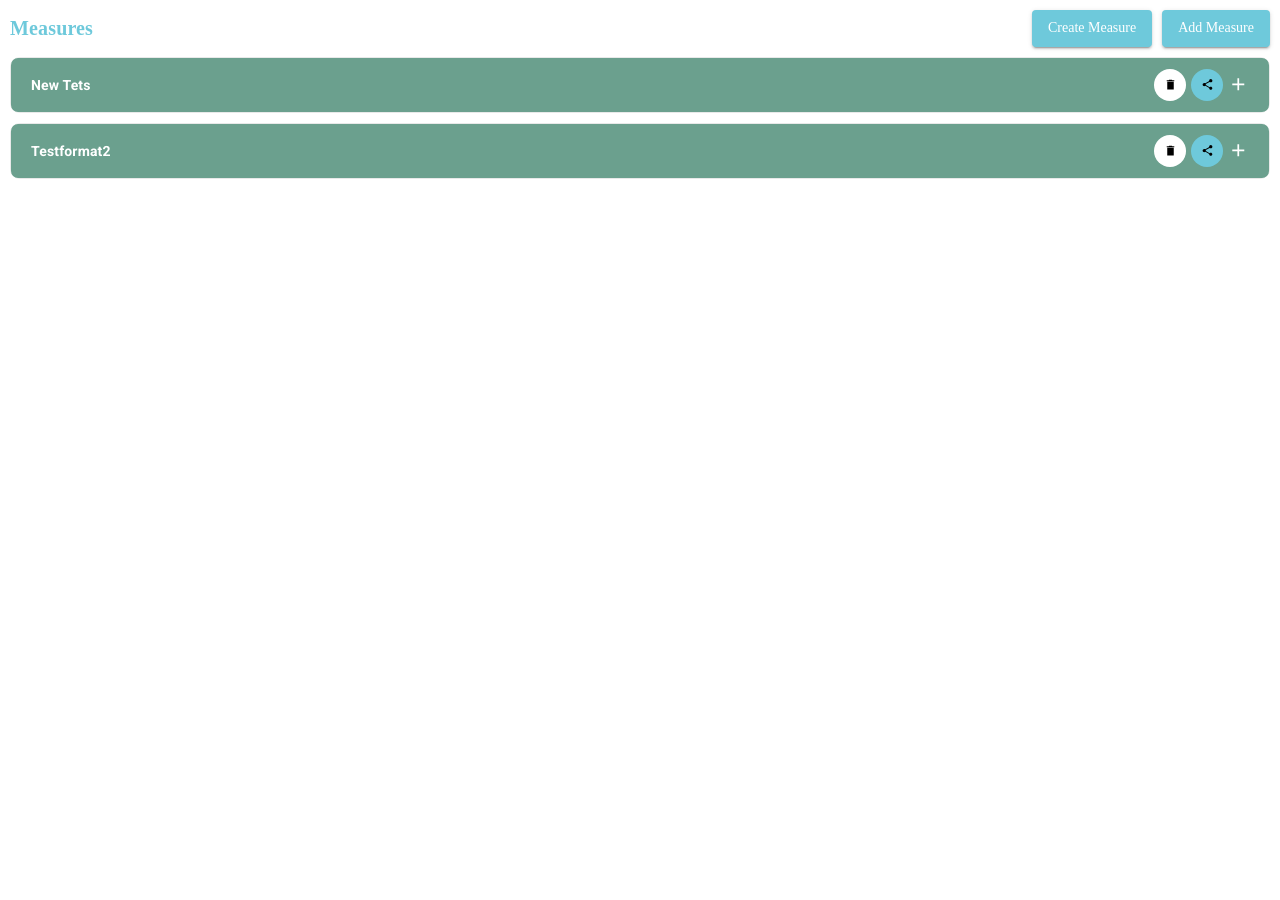
Therapist response measures › Update graph and table data
The width and height of the screenshot is (1280, 900).
Step 1. Click the icon with test id "toggleContent1" → point(1239, 150), box [1228,140,1249,161]
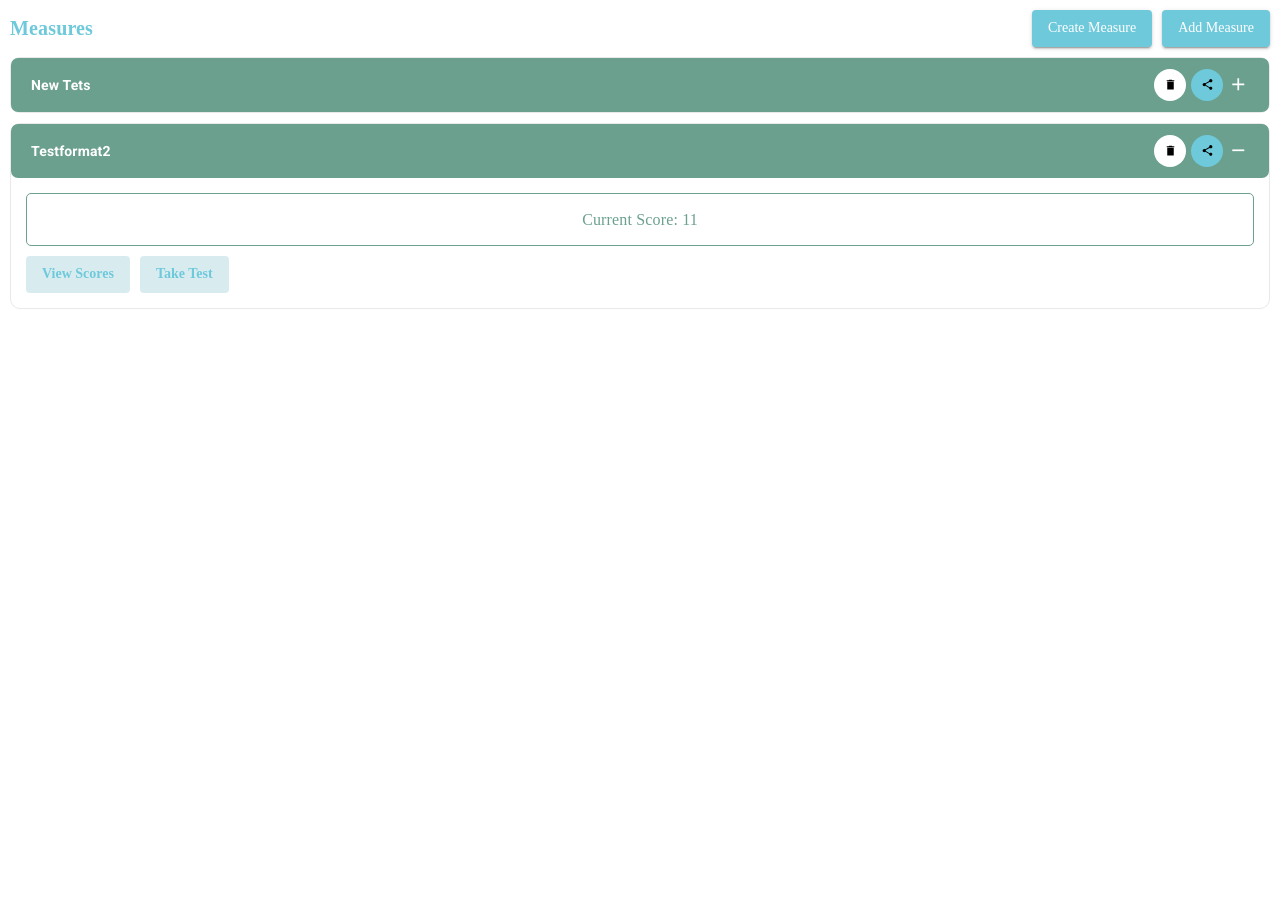
Step 2. Click the button with test id "view_score1" → point(78, 274), box [26,256,130,293]
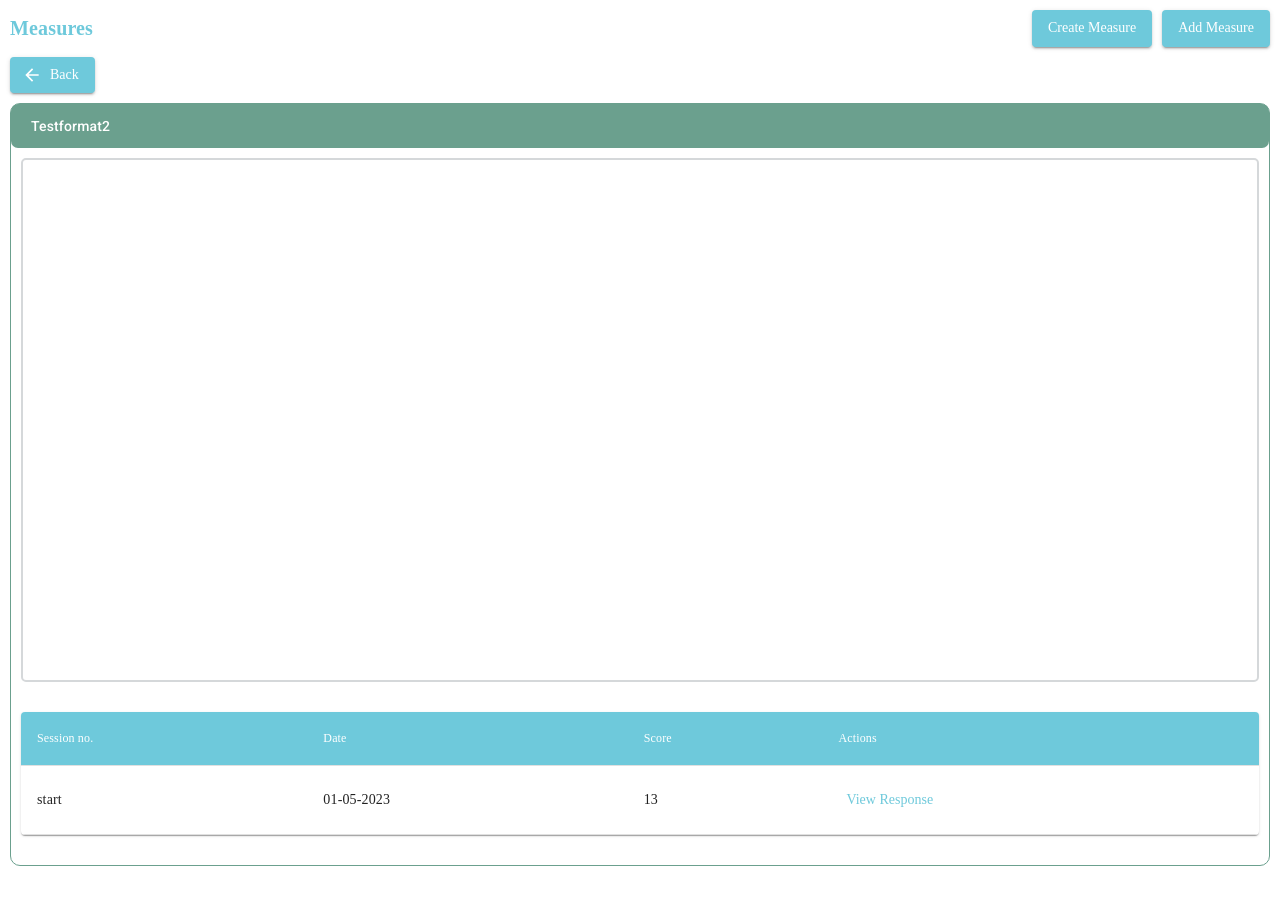
Expected: the button with test id "view-response-5a02fb07-c867-4f38-87ff-58bd241fc385" is shown
Expected: the element with test id "chart" is shown, [21,158,1259,682]
Step 3. Click the button with test id "view-response-5a02fb07-c867-4f38-87ff-58bd241fc385" → point(890, 800), box [838,782,941,818]
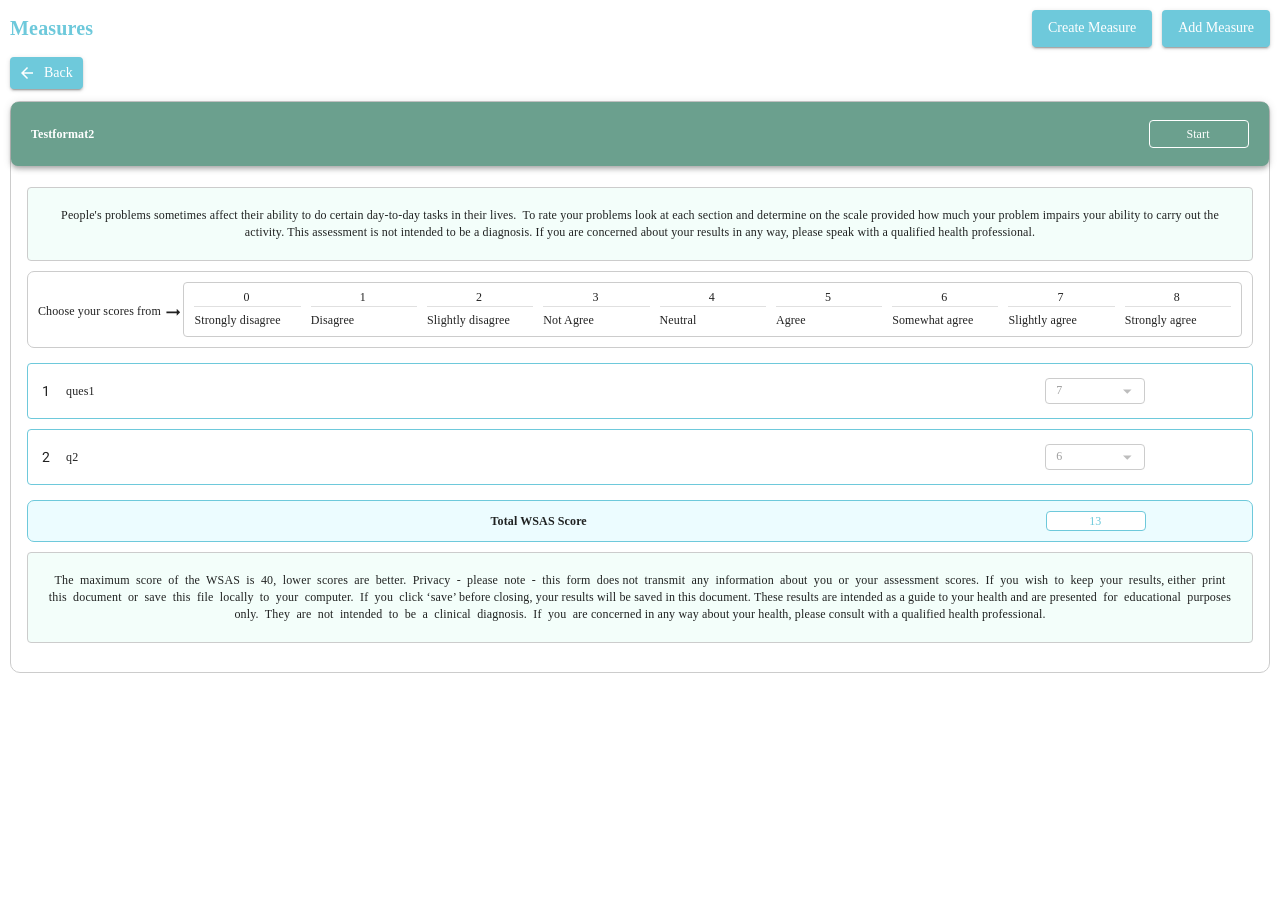
Expected: the text "13" is shown once, [1089,514,1101,528]
